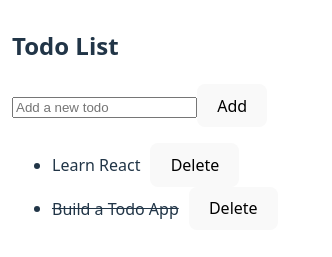
can add a new todo
The image size is (332, 257).
Type "Write Tests" into the field with placeholder "Add a new todo". click: coordinates (104, 107)
box: [12, 97, 197, 118]
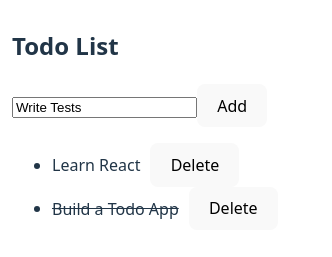
Click the button "Add". click: coordinates (232, 106)
box: [197, 84, 267, 127]
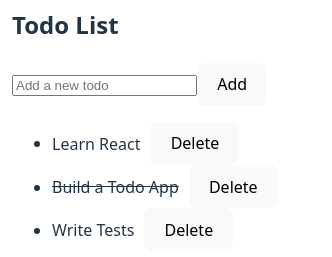
Result: the list item "Write Tests" is shown at [52, 219, 134, 241]
